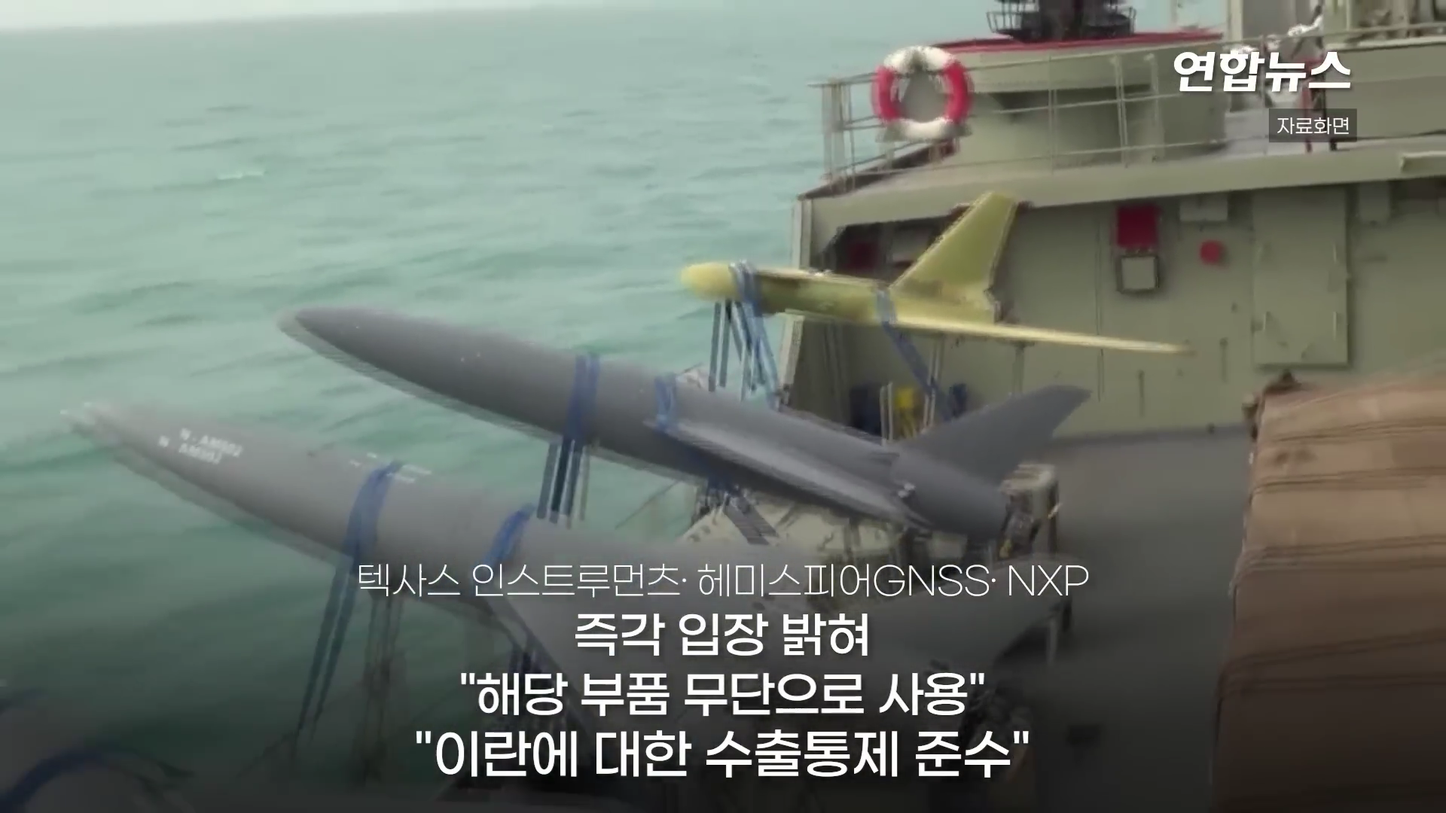shahed: (296, 303, 1094, 541)
